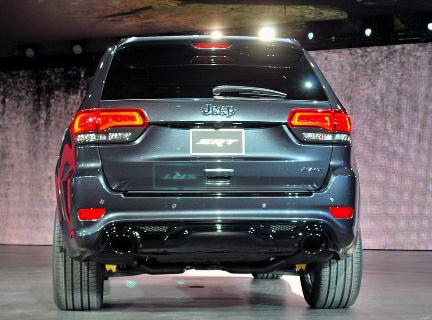Jeep-大切诺基: (47, 30, 367, 313)
